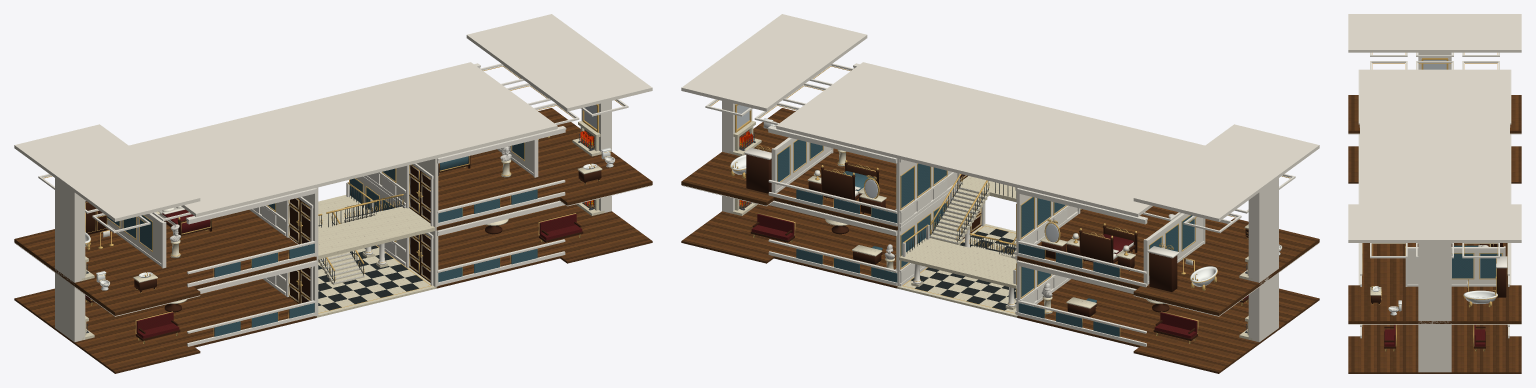
The model's file is interieur-chateau.fbx.
3 renders of one model, left to right at view 1: azimuth 30°, elevation 25°; view 2: azimuth 150°, elevation 25°; view 3: azimuth 270°, elevation 25°, orthographic. The views are drawn at different scales.
Parts seen in each view (by area): view 1: Interieur_Chateau; view 2: Interieur_Chateau; view 3: Interieur_Chateau.
Boxes of the visible parts, x1,y1,x2,y2 form: Interieur_Chateau: [14, 14, 652, 373]; Interieur_Chateau: [681, 14, 1319, 373]; Interieur_Chateau: [1348, 14, 1521, 373].
Bounding box in the file's own units: 41.6 × 11.48 × 13.5.
54 materials, 11 textured.
